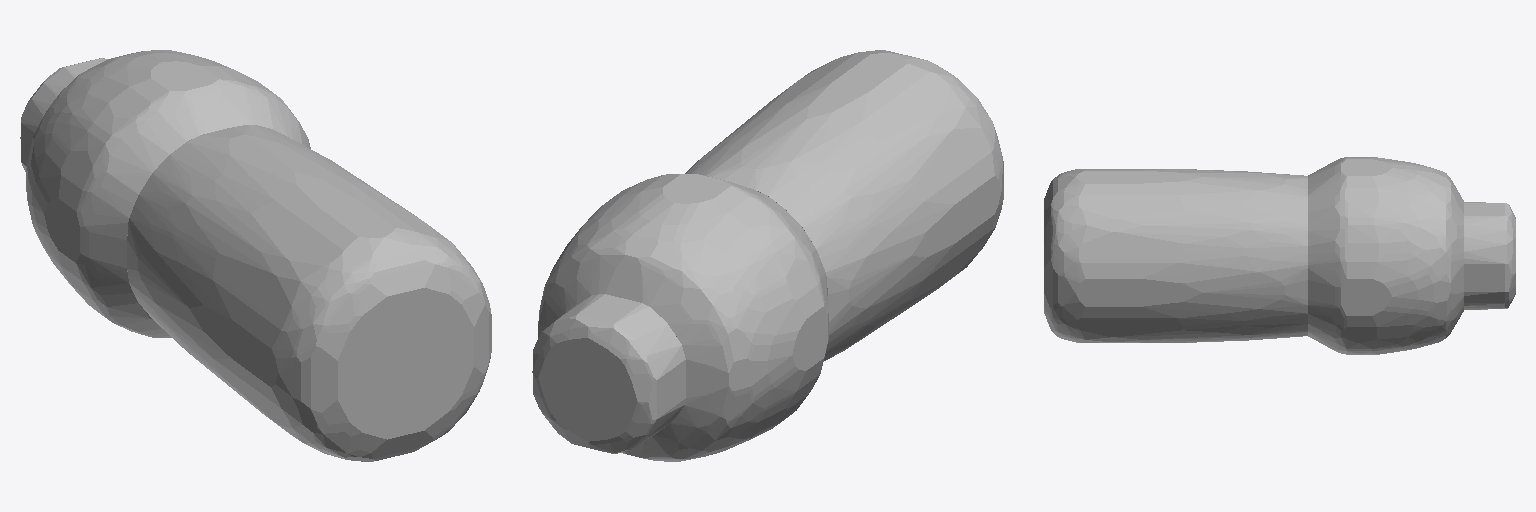
URDF robot description (root):
<robot name="root">
  <link name="link_coacd_convex_piece_0">
    <inertial>
      <origin xyz="0 0 0" rpy="0 0 0"/>
      <inertia ixx="1.07E-01" ixy="-1.26E-05" ixz="-1.70E-06" iyy="2.17E-02" iyz="-1.26E-05" izz="1.07E-01"/>
    </inertial>
    <visual>
      <origin xyz="0 0 0" rpy="0 0 0"/>
      <geometry>
        <mesh filename="coacd_convex_piece_0.obj" scale="1.0000E+00 1.0000E+00 1.0000E+00"/>
      </geometry>
      <material name="">
        <color rgba="7.50E-01 7.50E-01 7.50E-01 1"/>
      </material>
    </visual>
    <collision>
      <origin xyz="0 0 0" rpy="0 0 0"/>
      <geometry>
        <mesh filename="coacd_convex_piece_0.obj" scale="1.0000E+00 1.0000E+00 1.0000E+00"/>
      </geometry>
    </collision>
  </link>
  <link name="link_coacd_convex_piece_1">
    <inertial>
      <origin xyz="0 0 0" rpy="0 0 0"/>
      <inertia ixx="1.92E-02" ixy="3.99E-07" ixz="-7.33E-07" iyy="5.90E-04" iyz="3.99E-07" izz="1.92E-02"/>
    </inertial>
    <visual>
      <origin xyz="0 0 0" rpy="0 0 0"/>
      <geometry>
        <mesh filename="coacd_convex_piece_1.obj" scale="1.0000E+00 1.0000E+00 1.0000E+00"/>
      </geometry>
      <material name="">
        <color rgba="7.50E-01 7.50E-01 7.50E-01 1"/>
      </material>
    </visual>
    <collision>
      <origin xyz="0 0 0" rpy="0 0 0"/>
      <geometry>
        <mesh filename="coacd_convex_piece_1.obj" scale="1.0000E+00 1.0000E+00 1.0000E+00"/>
      </geometry>
    </collision>
  </link>
  <joint name="link_coacd_convex_piece_1_joint" type="fixed">
    <origin xyz="0 0 0" rpy="0 0 0"/>
    <parent link="link_coacd_convex_piece_0"/>
    <child link="link_coacd_convex_piece_1"/>
  </joint>
  <link name="link_coacd_convex_piece_2">
    <inertial>
      <origin xyz="0 0 0" rpy="0 0 0"/>
      <inertia ixx="5.71E-02" ixy="-1.71E-05" ixz="-7.79E-06" iyy="1.74E-02" iyz="-1.71E-05" izz="5.71E-02"/>
    </inertial>
    <visual>
      <origin xyz="0 0 0" rpy="0 0 0"/>
      <geometry>
        <mesh filename="coacd_convex_piece_2.obj" scale="1.0000E+00 1.0000E+00 1.0000E+00"/>
      </geometry>
      <material name="">
        <color rgba="7.50E-01 7.50E-01 7.50E-01 1"/>
      </material>
    </visual>
    <collision>
      <origin xyz="0 0 0" rpy="0 0 0"/>
      <geometry>
        <mesh filename="coacd_convex_piece_2.obj" scale="1.0000E+00 1.0000E+00 1.0000E+00"/>
      </geometry>
    </collision>
  </link>
  <joint name="link_coacd_convex_piece_2_joint" type="fixed">
    <origin xyz="0 0 0" rpy="0 0 0"/>
    <parent link="link_coacd_convex_piece_1"/>
    <child link="link_coacd_convex_piece_2"/>
  </joint>
</robot>

--- What the picture shows (computed from the rendered views, not written in the file) ---
Views: 3 orthographic renders of the robot side by side, from view 1: azimuth 30°, elevation 25°; view 2: azimuth 150°, elevation 25°; view 3: azimuth 270°, elevation 25°.
Model root with 3 links and 2 joints (2 fixed), rooted at link_coacd_convex_piece_0, posed all joints at 0.
Visible links, largest first — view 1: link_coacd_convex_piece_0, link_coacd_convex_piece_2, link_coacd_convex_piece_1; view 2: link_coacd_convex_piece_0, link_coacd_convex_piece_2, link_coacd_convex_piece_1; view 3: link_coacd_convex_piece_0, link_coacd_convex_piece_2, link_coacd_convex_piece_1.
Link boxes in pixels (box(x1,y1,x2,y2)): link_coacd_convex_piece_0: box(127, 125, 491, 461); link_coacd_convex_piece_2: box(26, 50, 310, 337); link_coacd_convex_piece_1: box(20, 58, 107, 171); link_coacd_convex_piece_0: box(685, 50, 1003, 360); link_coacd_convex_piece_2: box(538, 174, 828, 461); link_coacd_convex_piece_1: box(532, 294, 685, 453); link_coacd_convex_piece_0: box(1044, 169, 1307, 342); link_coacd_convex_piece_2: box(1308, 157, 1463, 354); link_coacd_convex_piece_1: box(1464, 202, 1515, 309).
Bounding box of the posed robot: 0.7923 × 1.92 × 0.7923 m (x, y, z).
Meshes: 3 distinct files referenced, 3 mesh visuals loaded (3 OBJ).
